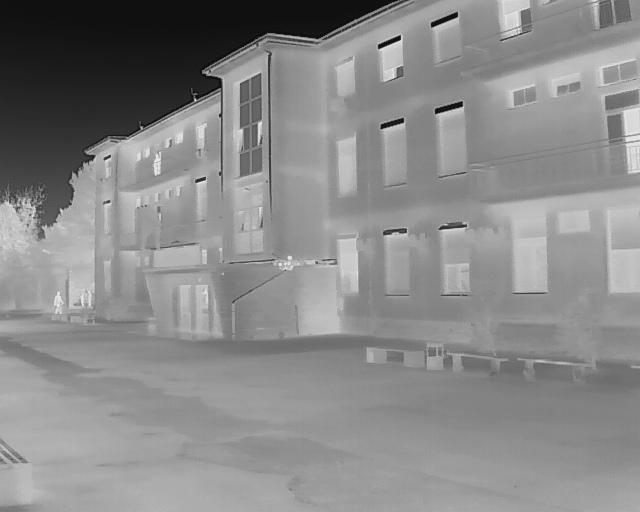drone: (268, 252, 311, 278)
